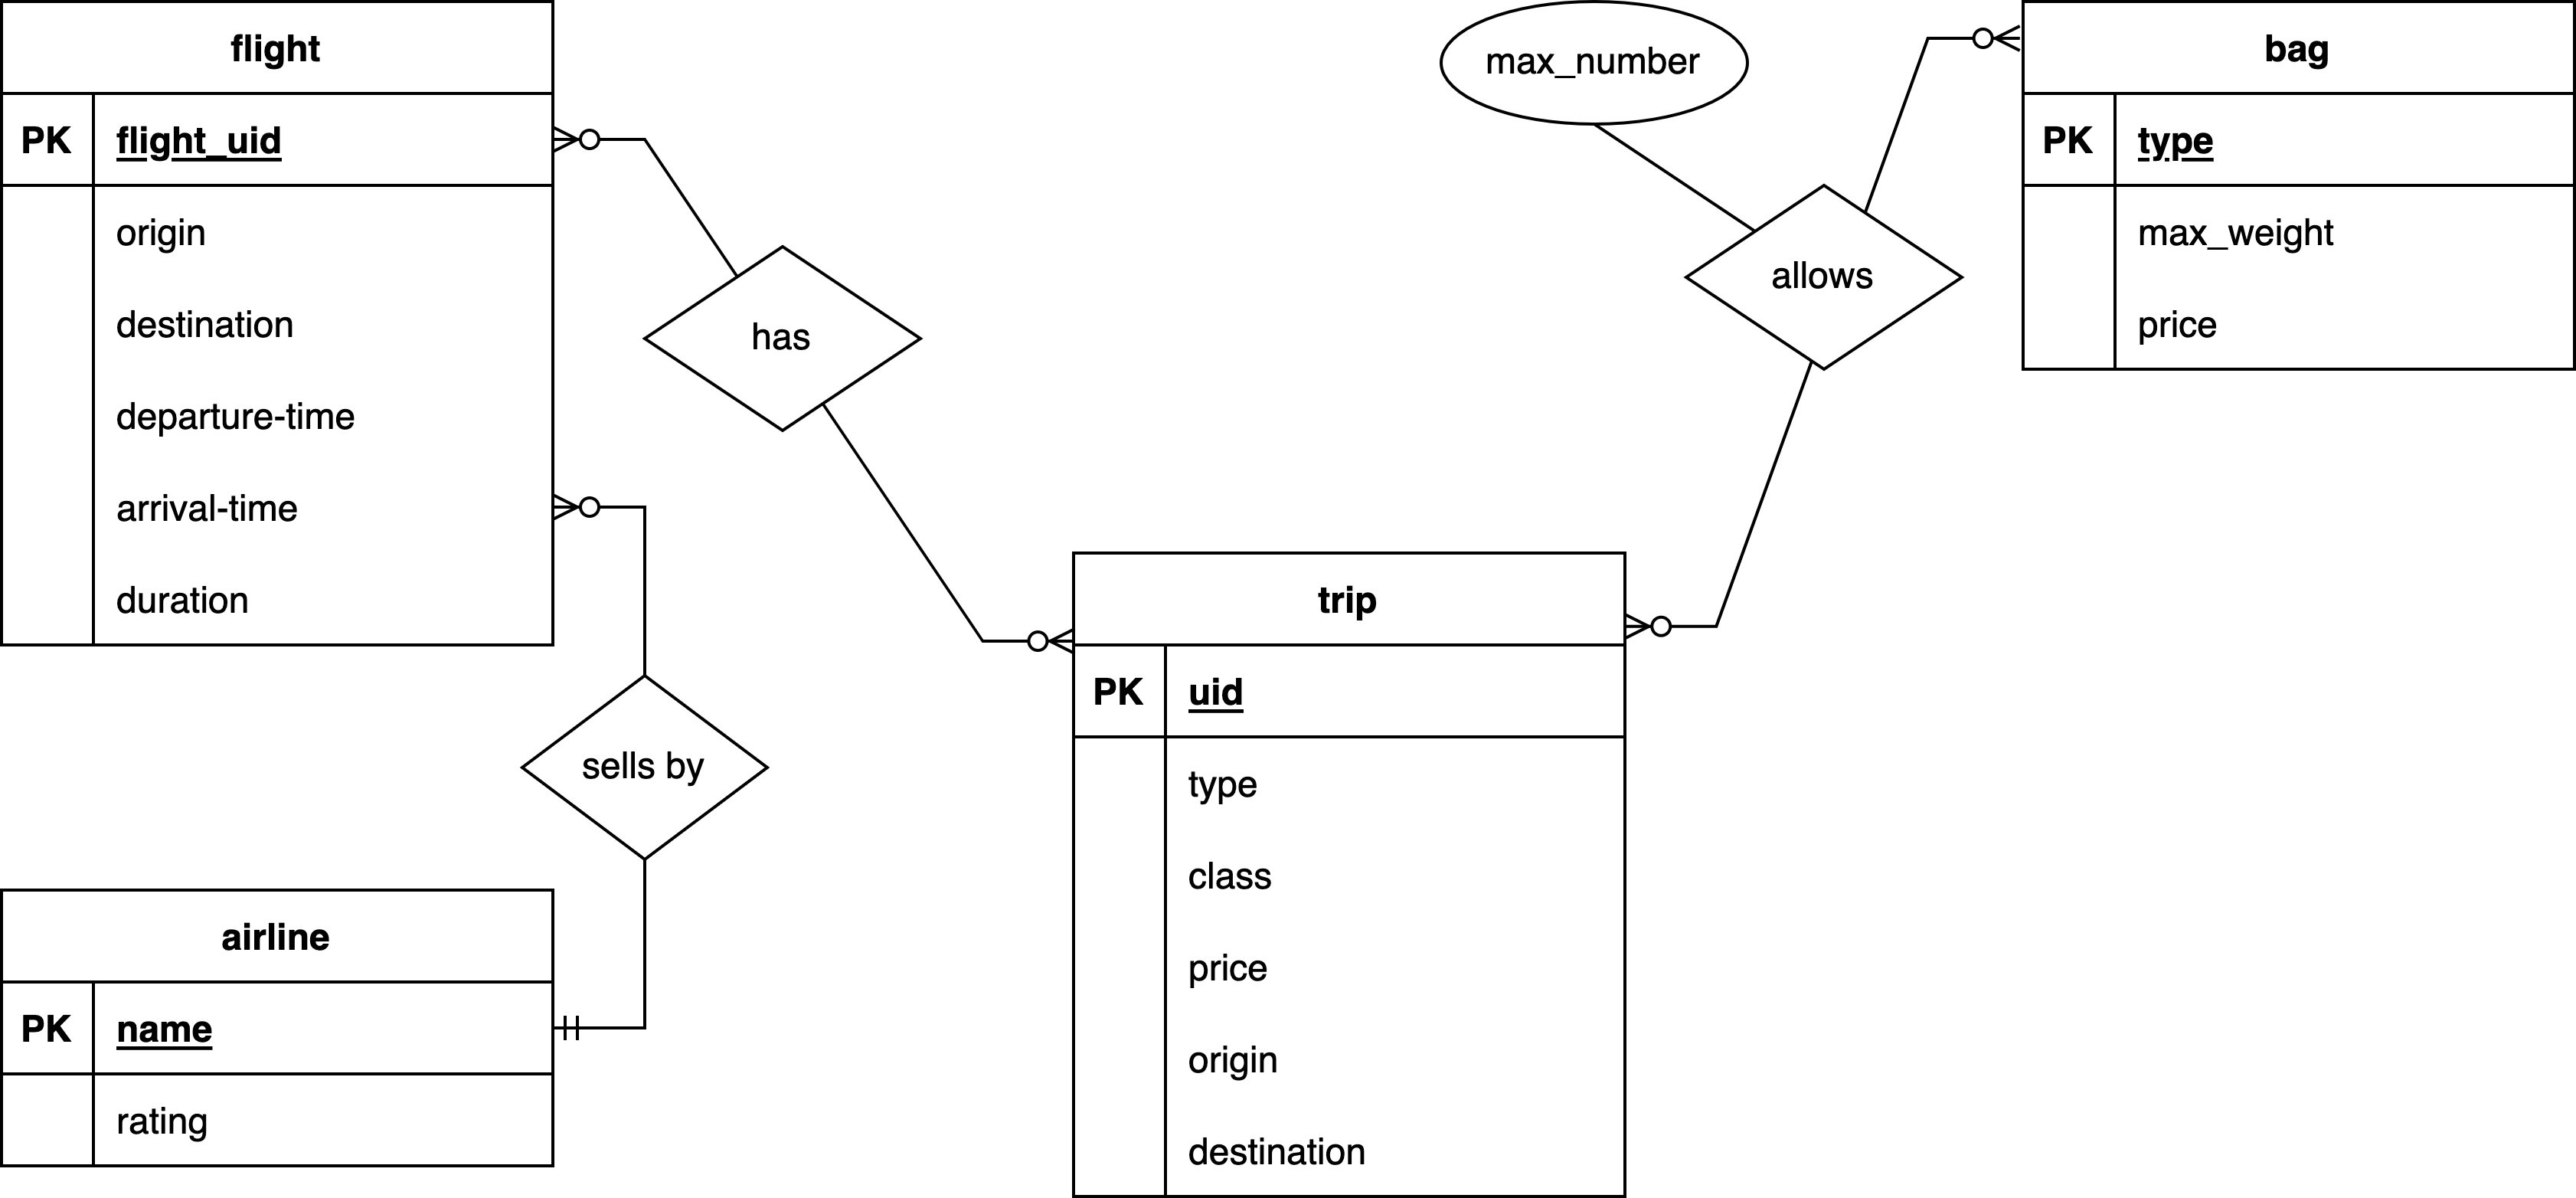entity: (1073, 547, 1621, 1198), (2, 0, 554, 644), (2026, 0, 2573, 366), (0, 886, 555, 1173)
many: (555, 97, 657, 182), (1625, 587, 1727, 669), (976, 601, 1071, 682), (550, 475, 647, 551), (1919, 3, 2022, 74)
one: (554, 986, 639, 1062)
rel: (1679, 184, 1966, 373), (639, 247, 930, 429), (517, 677, 767, 859)
rel_attr: (1434, 0, 1748, 128)
